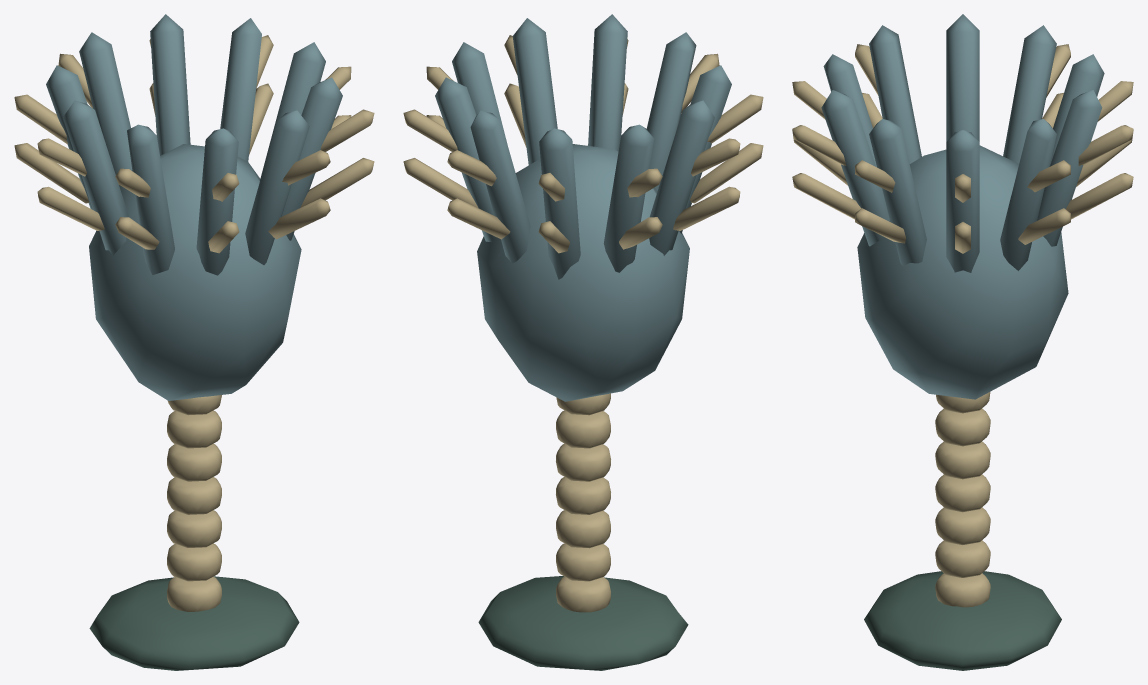
Rendered from org_eucalyptocrinites.glb.
3 renders of one model, left to right at view 1: azimuth 30°, elevation 25°; view 2: azimuth 150°, elevation 25°; view 3: azimuth 270°, elevation 25°, orthographic.
Visible parts, largest first — view 1: Body; view 2: Body; view 3: Body.
Boxes of the visible parts, x1,y1,x2,y2 form: Body: (14, 14, 374, 670); Body: (403, 14, 763, 670); Body: (792, 14, 1133, 670).
Bounding box in the file's own units: 0.427 × 0.75 × 0.4061.
